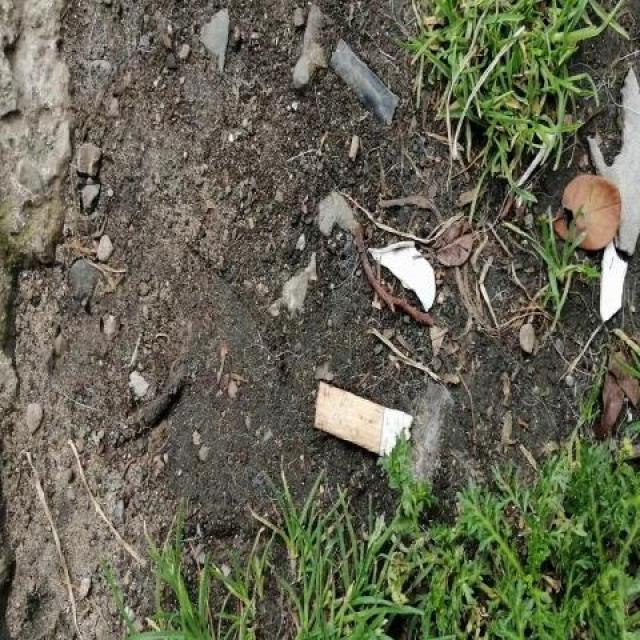non-organic waste: (306, 371, 418, 468)
